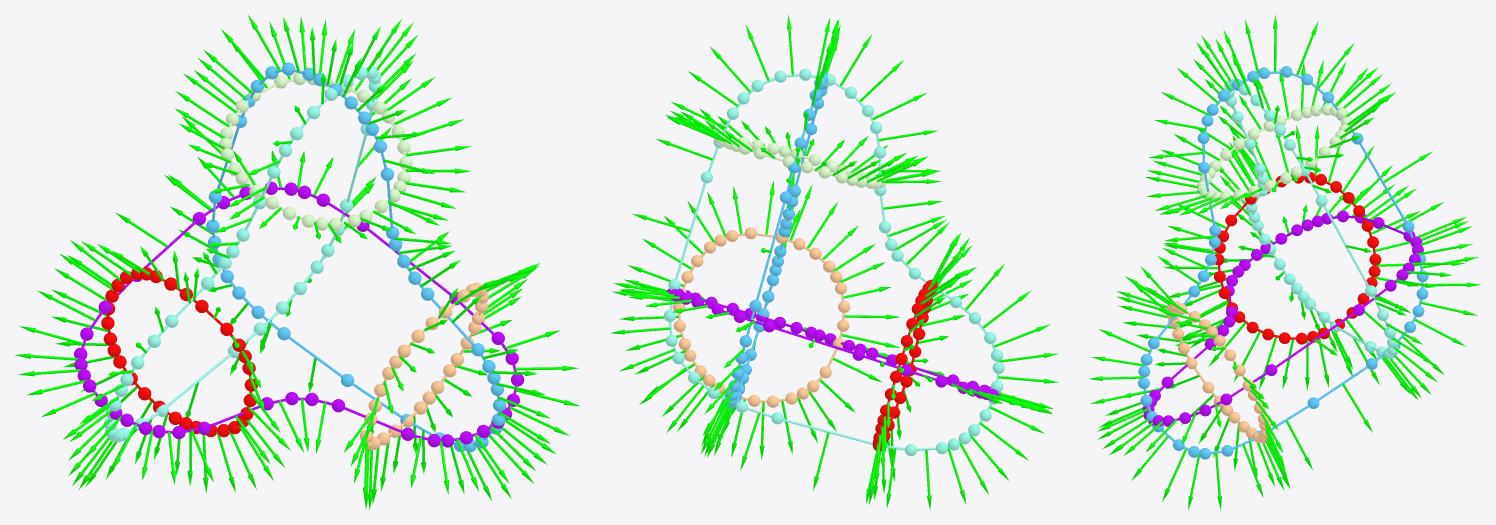
Rendered from flowrep_trebol.gltf.
The picture shows the model from 3 angles, left to right: view 1: azimuth 30°, elevation 25°; view 2: azimuth 150°, elevation 25°; view 3: azimuth 270°, elevation 25°; orthographic projection. The views are drawn at different scales.
Bounding box in the file's own units: 0.8299 × 0.8034 × 0.6623.
